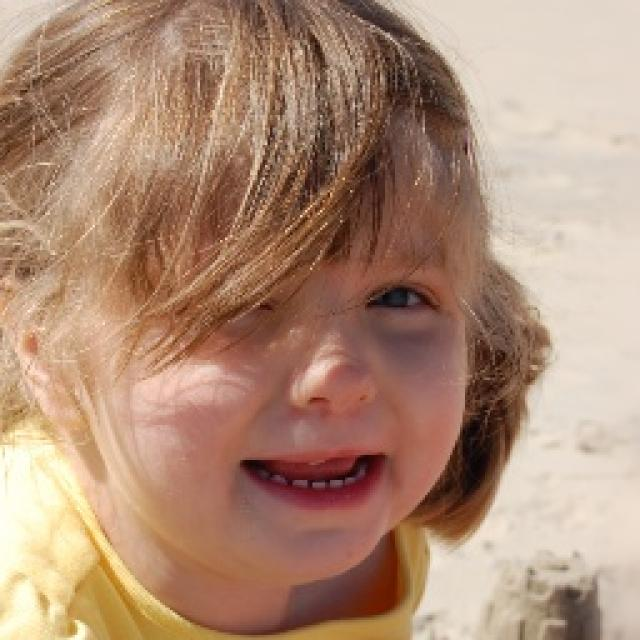earlobe: (44, 371, 94, 435)
eye: (180, 287, 266, 317), (364, 285, 436, 311)
nose: (293, 388, 392, 440)
wholeear: (0, 275, 94, 434)
